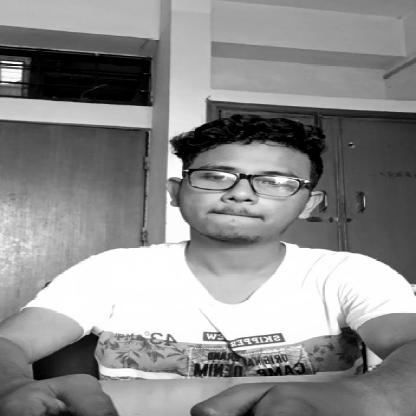Normal: (185, 148, 317, 252)
